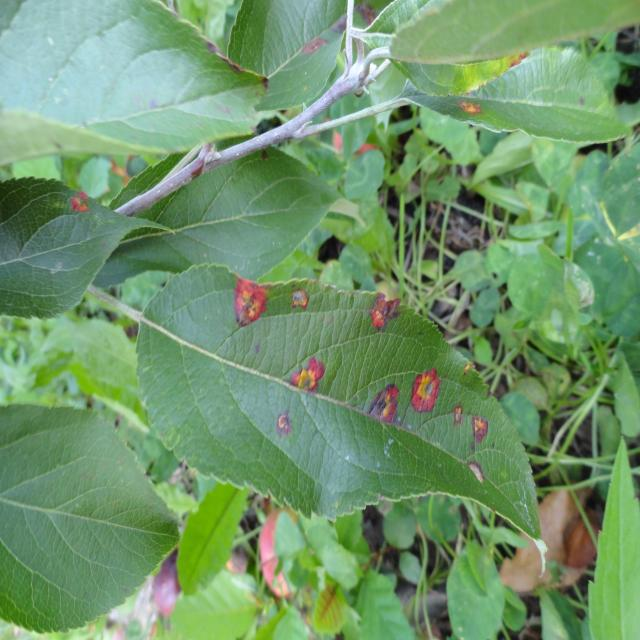rust: (135, 262, 542, 546), (0, 176, 133, 320)
